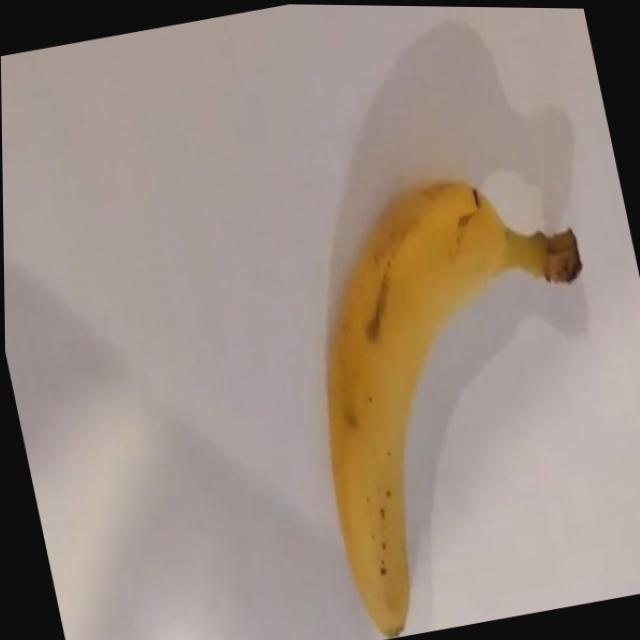Banana: (271, 153, 640, 640)
